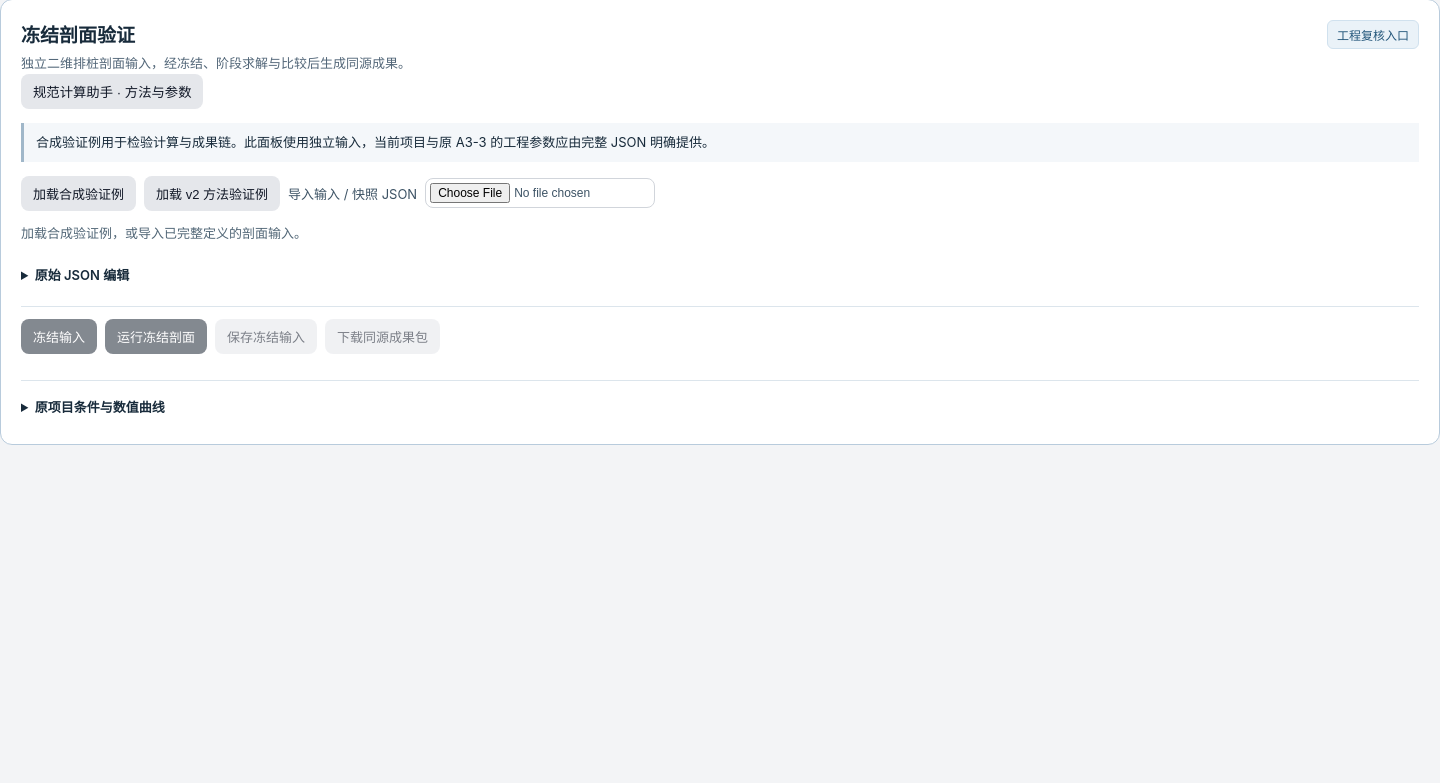
Test: v2 methods and original reference review › shows each engineering check without promoting pure bending or calculated to complete approval
The image size is (1440, 783).
Click the button "加载合成验证例".
click(78, 193)  # box [21,176,136,211]
(page scrolled)
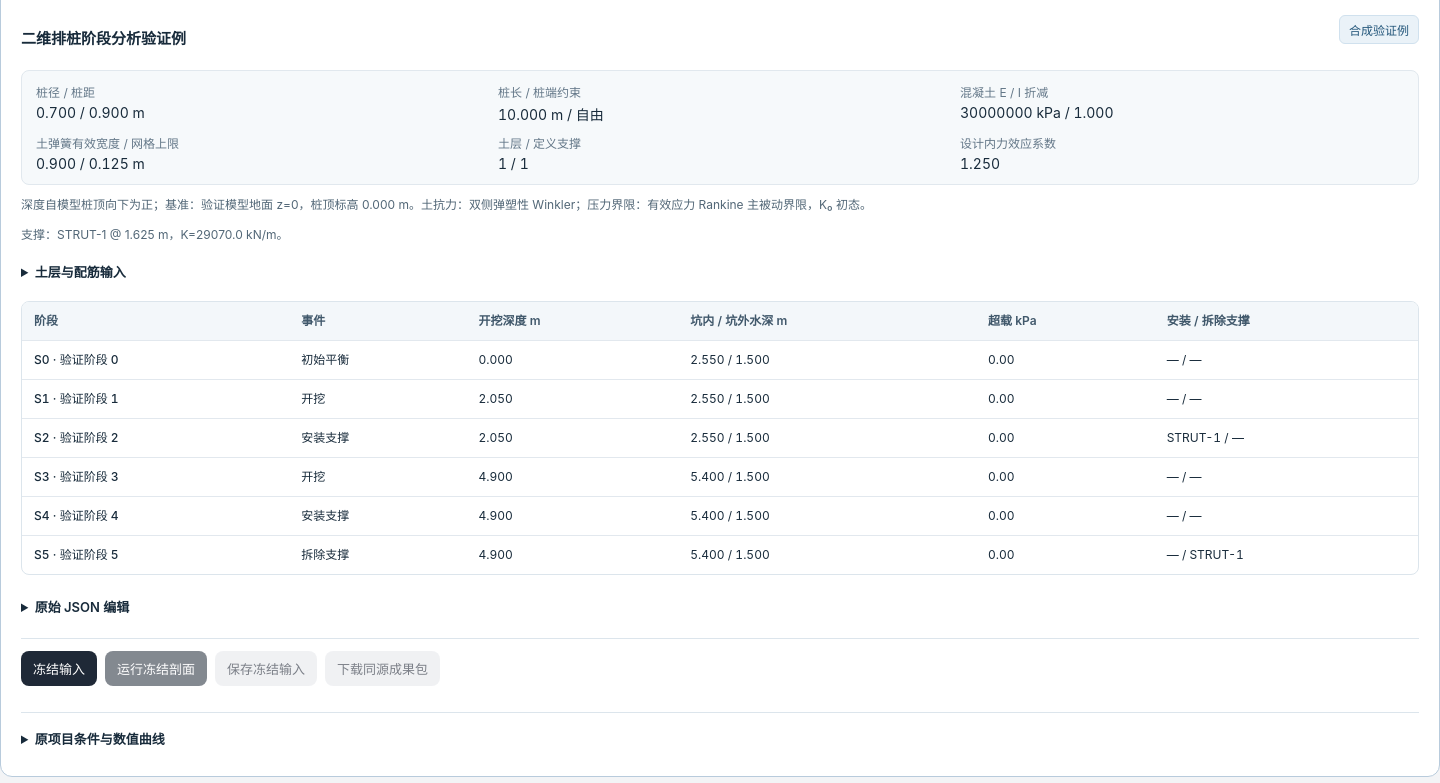
Now the heading "二维排桩阶段分析验证例" is shown, box [21,27,186,48]
Click the button "冻结输入".
click(59, 668)  # box [21,651,97,686]
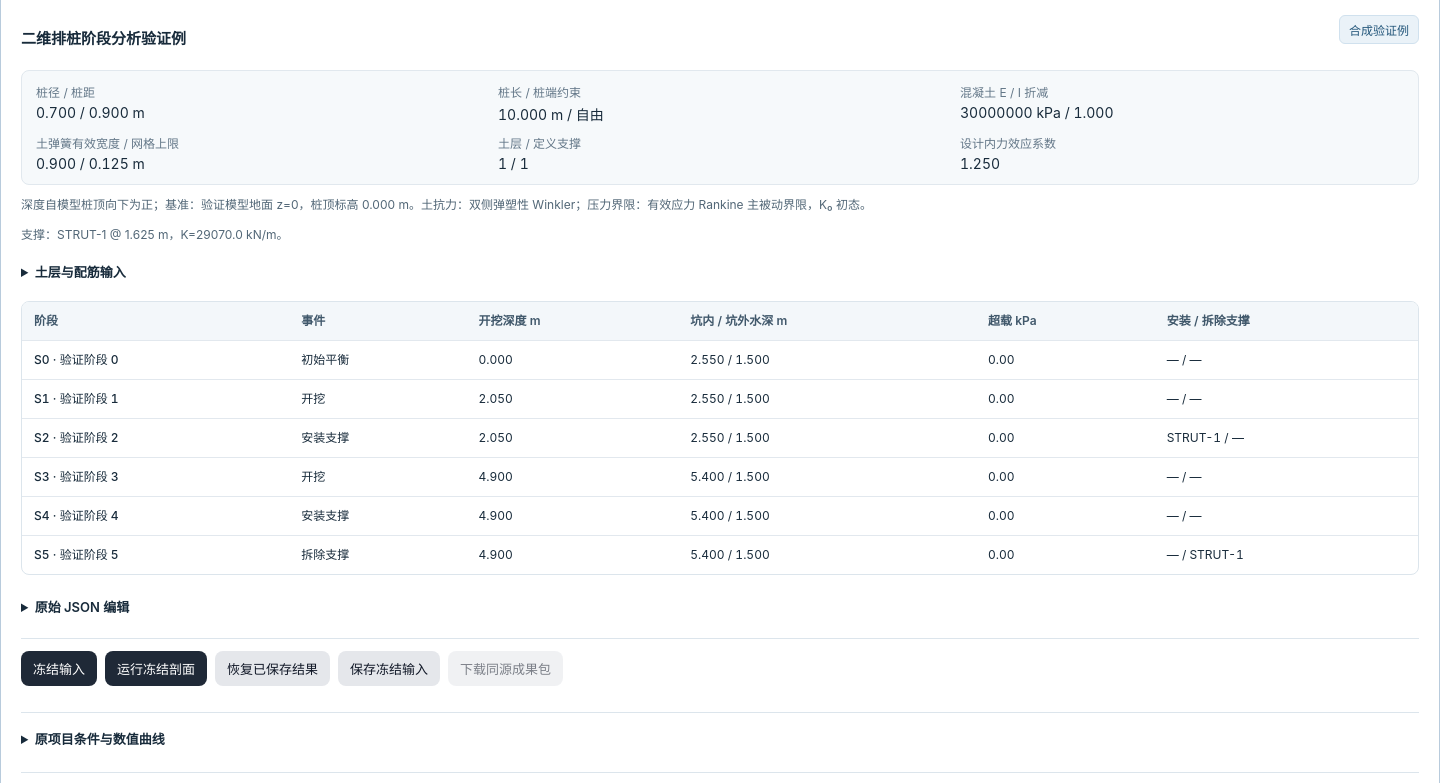
Now the button "运行冻结剖面" is enabled
Click the button "运行冻结剖面".
click(156, 668)  # box [105,651,207,686]
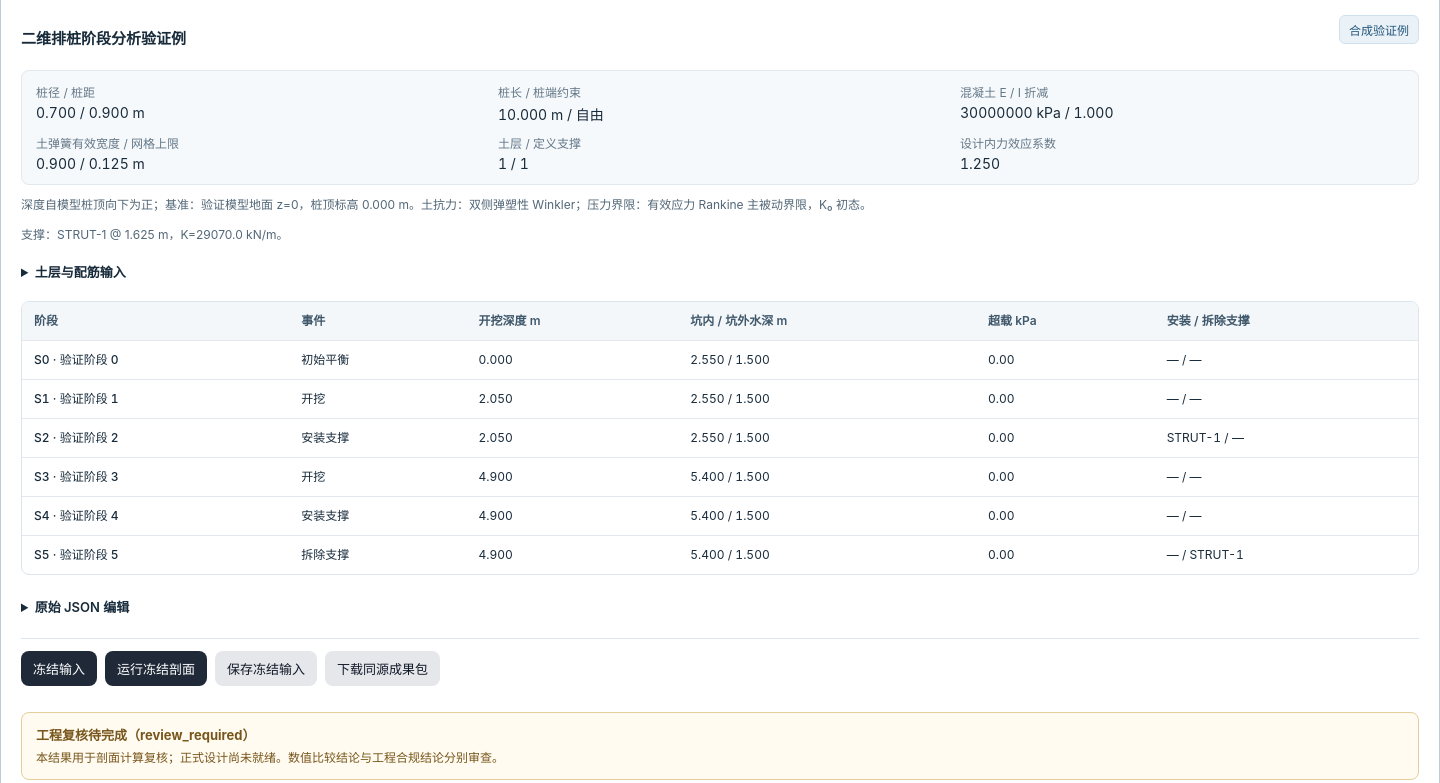
Now the text "工程复核待完成（review_required）" is shown, box [36,727,256,743]
